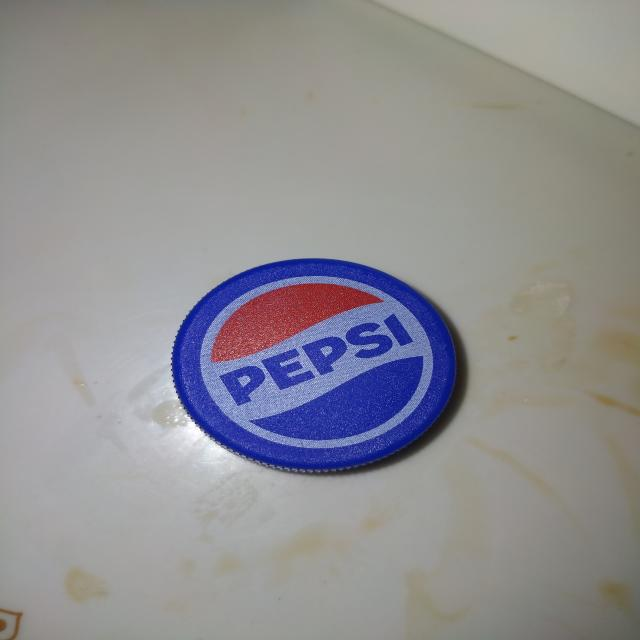general: (169, 256, 458, 474)
